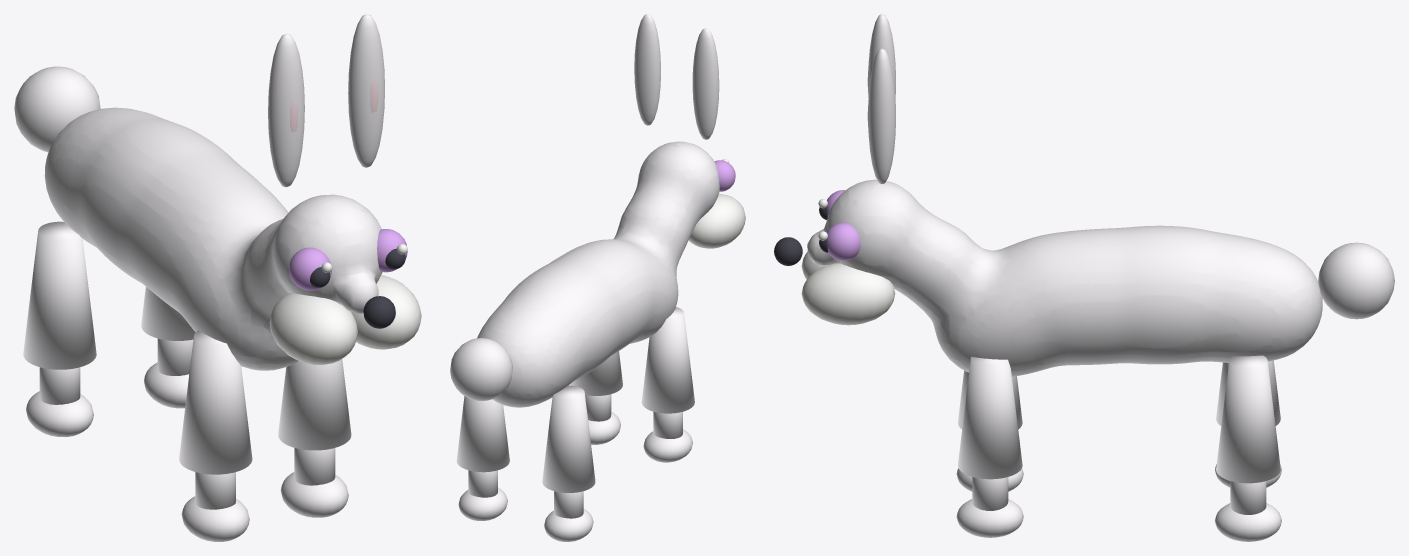
Rendered from Bunny.fbx.
3 views of the same model, side by side, from view 1: azimuth 30°, elevation 25°; view 2: azimuth 150°, elevation 25°; view 3: azimuth 270°, elevation 25° (orthographic). The views are drawn at different scales.
Parts seen in each view (by area): view 1: Bunny; view 2: Bunny; view 3: Bunny.
Boxes of the visible parts, left/top/right/bottom form: Bunny: left=14, top=14, right=421, bottom=541; Bunny: left=450, top=14, right=745, bottom=541; Bunny: left=774, top=14, right=1394, bottom=541.
Bounding box in the file's own units: 154 × 442 × 517.
